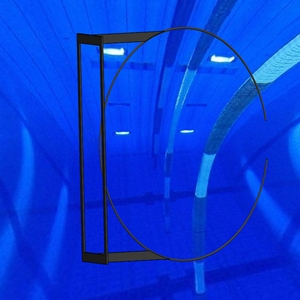circle: (75, 26, 270, 266)
